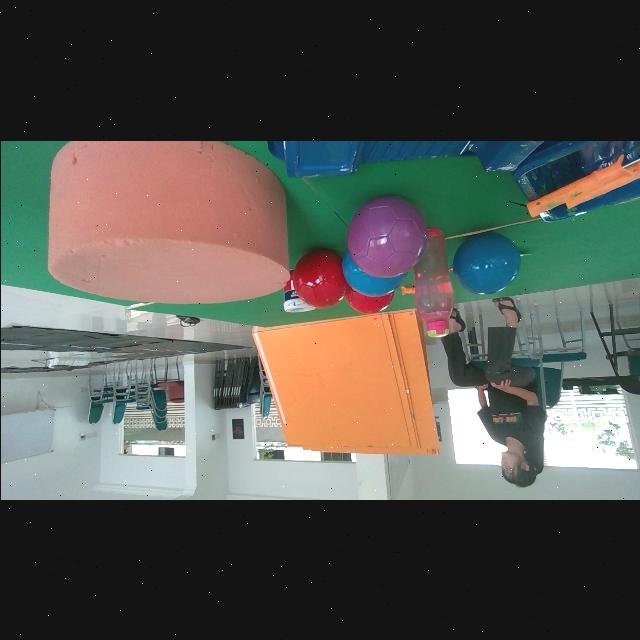B: (453, 231, 521, 294), (342, 250, 407, 297)
P: (346, 195, 427, 278)
R: (291, 249, 346, 308), (345, 286, 394, 314)
